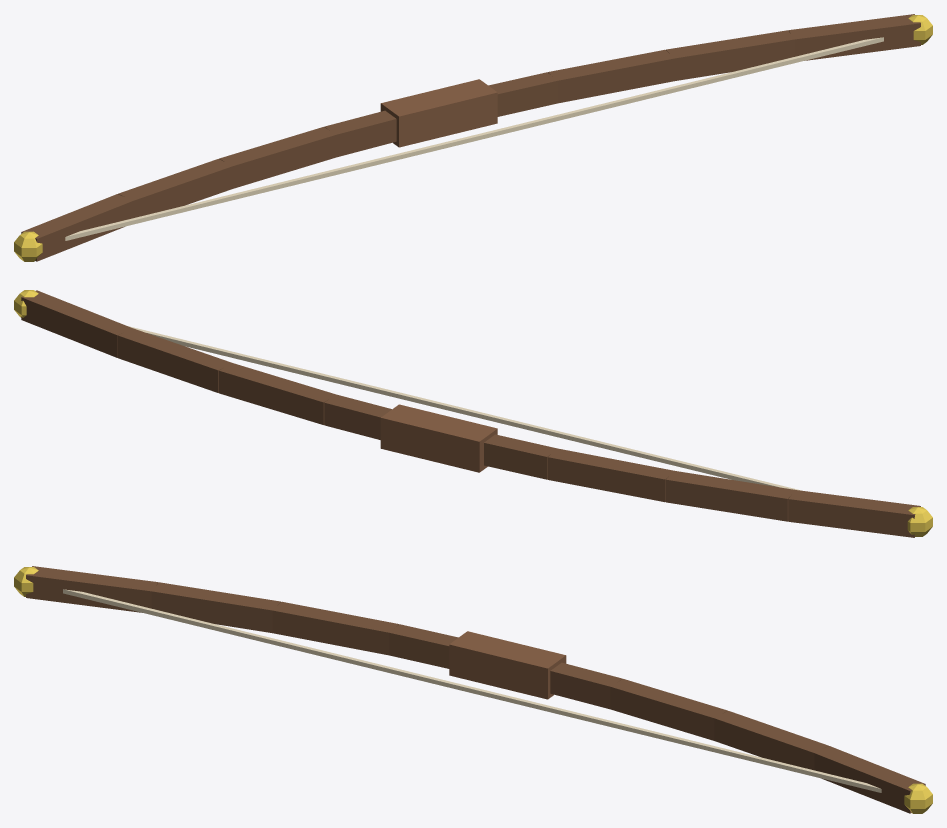
The model's file is long_bow.glb.
3 renders of one model, top to bottom at view 1: azimuth 30°, elevation 25°; view 2: azimuth 150°, elevation 25°; view 3: azimuth 330°, elevation 25°, orthographic.
Parts seen in each view (by area): view 1: long_bow; view 2: long_bow; view 3: long_bow.
Part boxes in pixels (<box>): long_bow: <box>14,14,932,261</box>; long_bow: <box>14,290,932,537</box>; long_bow: <box>14,566,932,813</box>.
Bounding box in the file's own units: 0.9 × 0.0293 × 0.0871.
